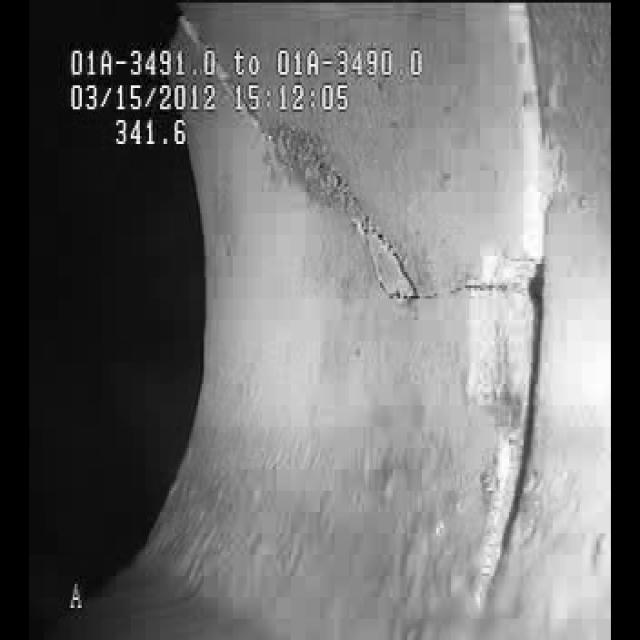Crack: (302, 148, 512, 344)
